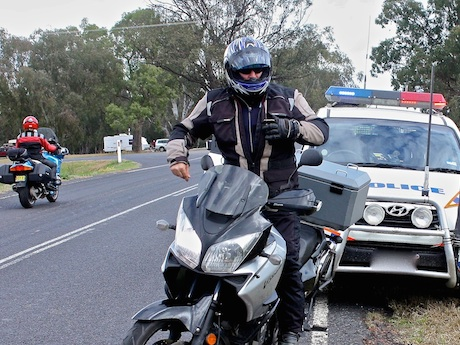helmet: (222, 37, 274, 94)
